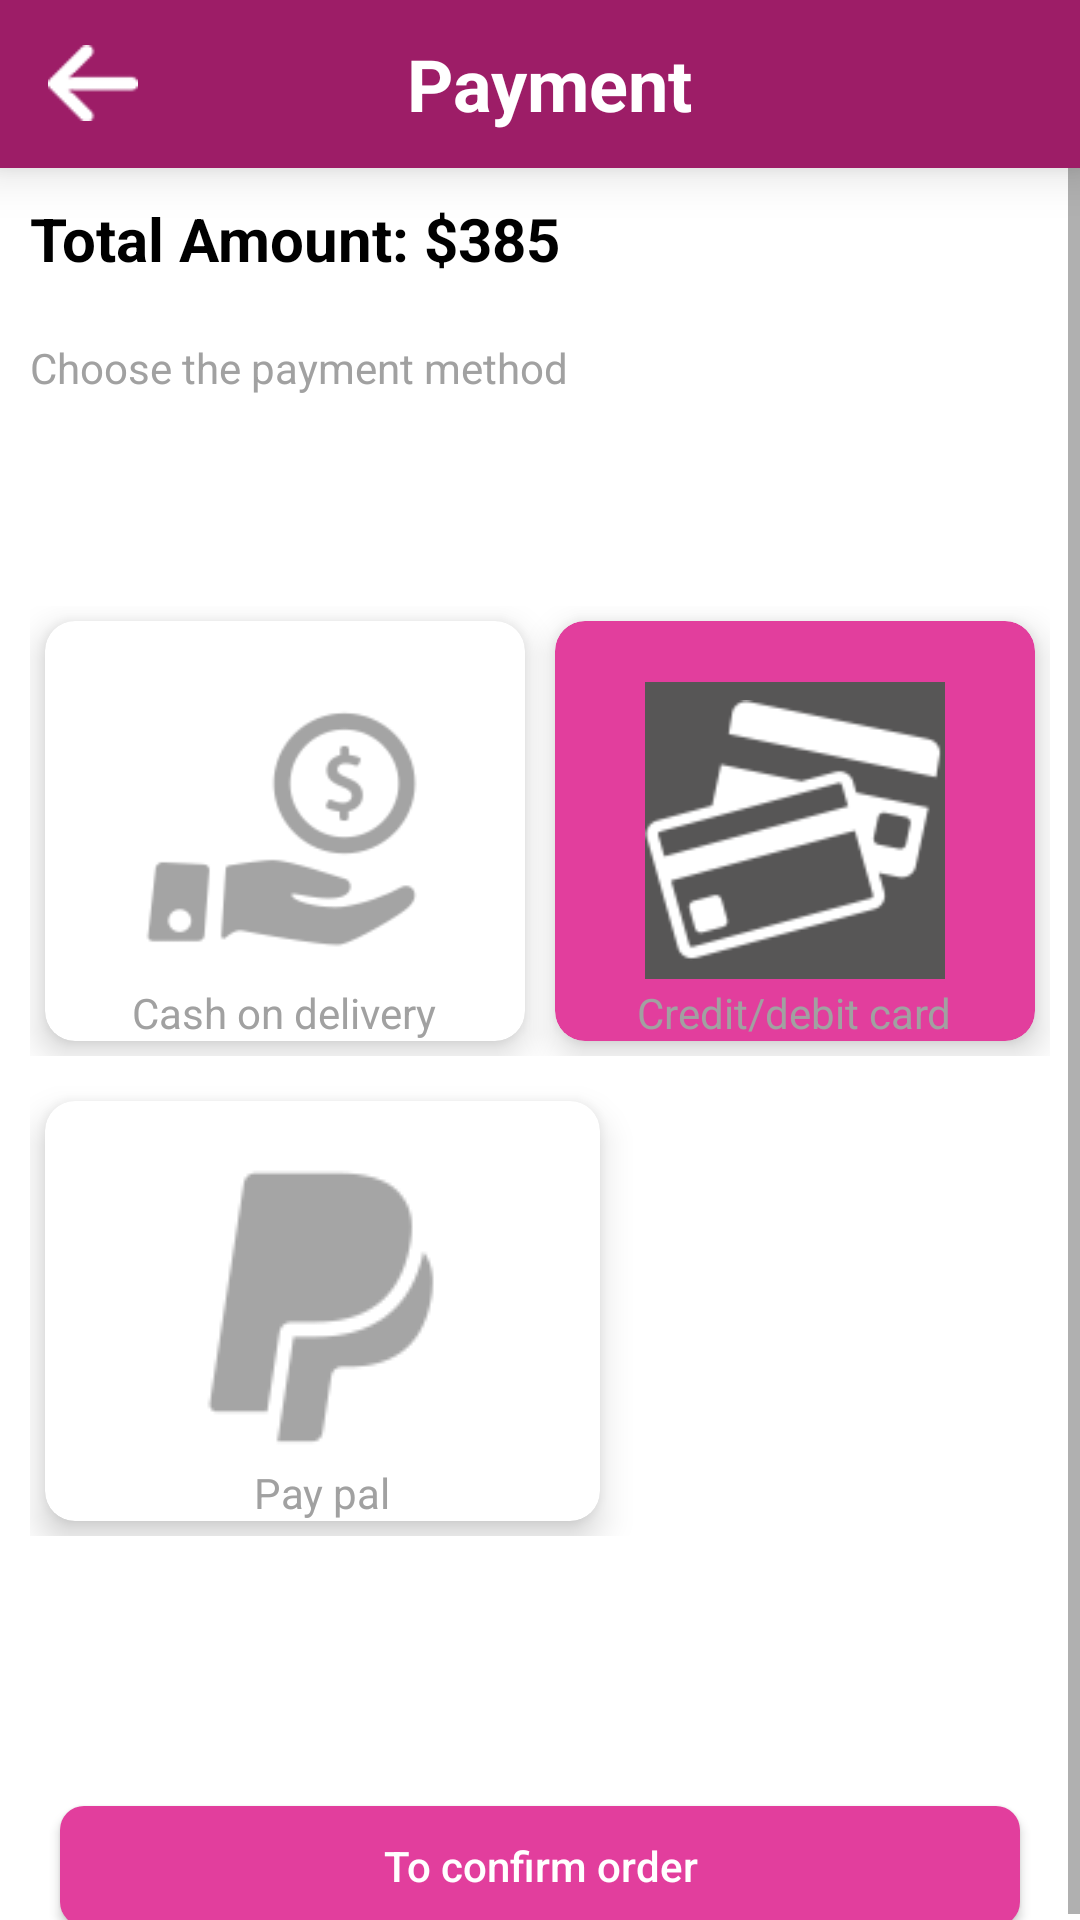

Locate icon controls on the screen. Image size 1080*1920, boxes as (x1, y1, x2, y2).
back arrow three: (48, 45, 138, 121)
